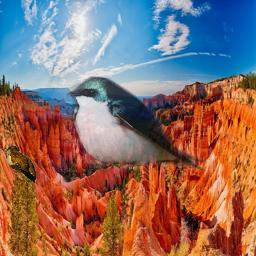Cuckoo: (4, 145, 36, 183)
Swallow: (66, 75, 207, 171)
